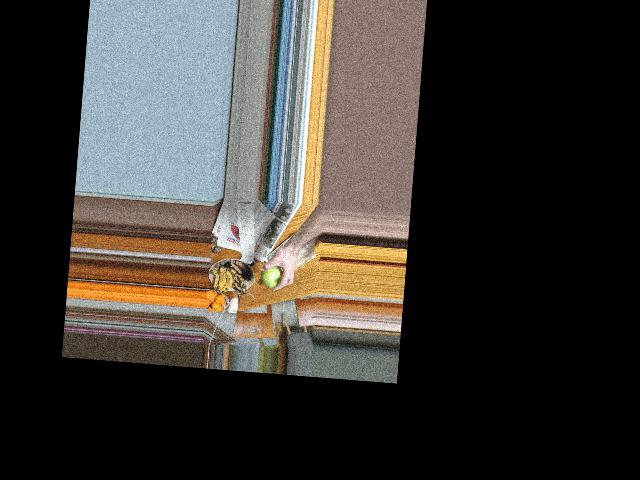apple: (261, 259, 286, 289)
